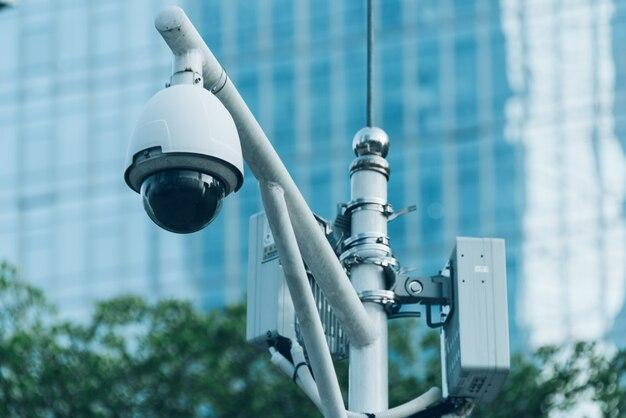camera: (112, 3, 262, 251)
